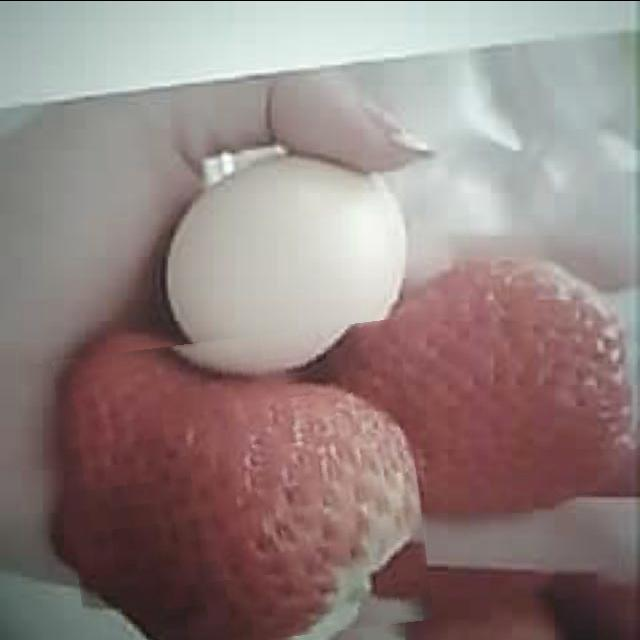strawberry: (60, 327, 425, 640)
